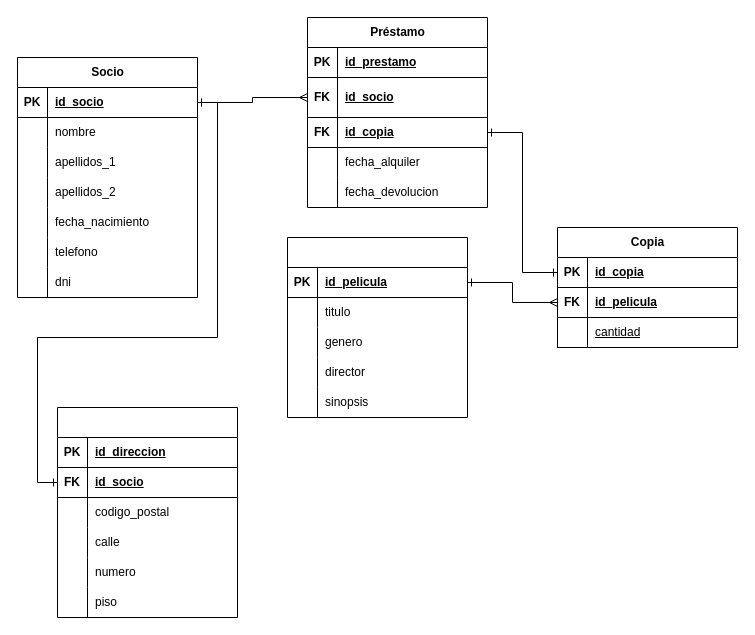
Image size: 755x635. Some labels were removed from this diagram. The shapes that lost their labels are listed below. From the top down, each one's box as (x1, y1, x2, y2) in pixels, then its label:
(286, 236, 468, 418): Película
(56, 406, 238, 618): Dirección
